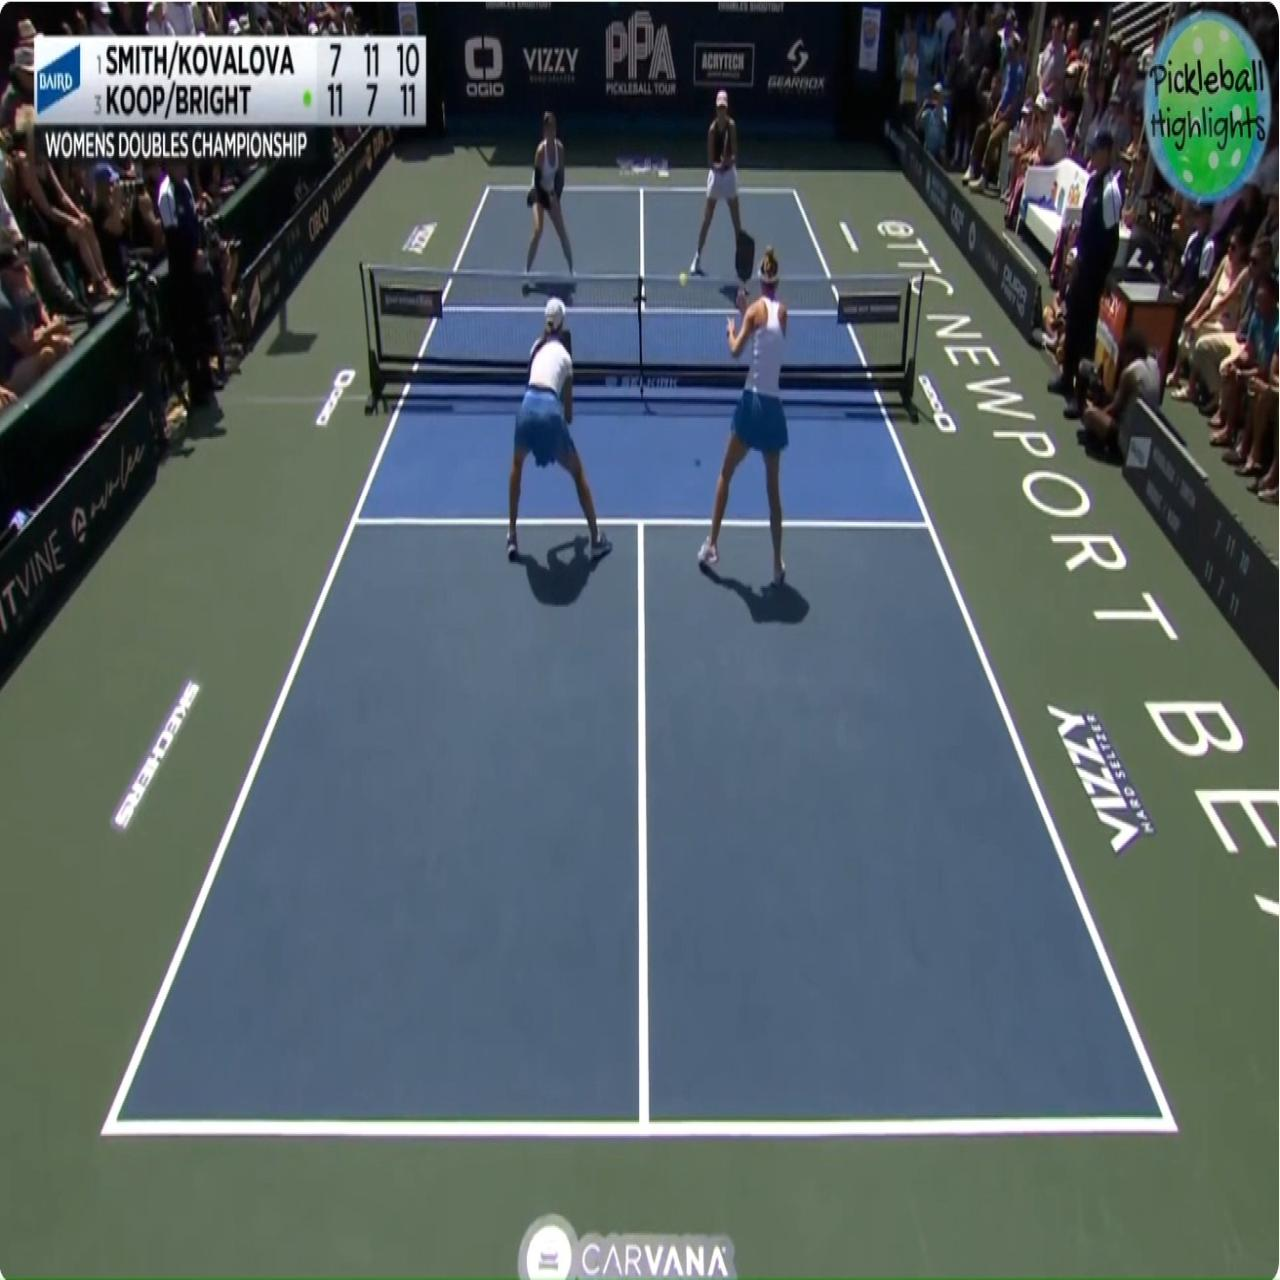pickleball: (678, 271, 688, 287)
